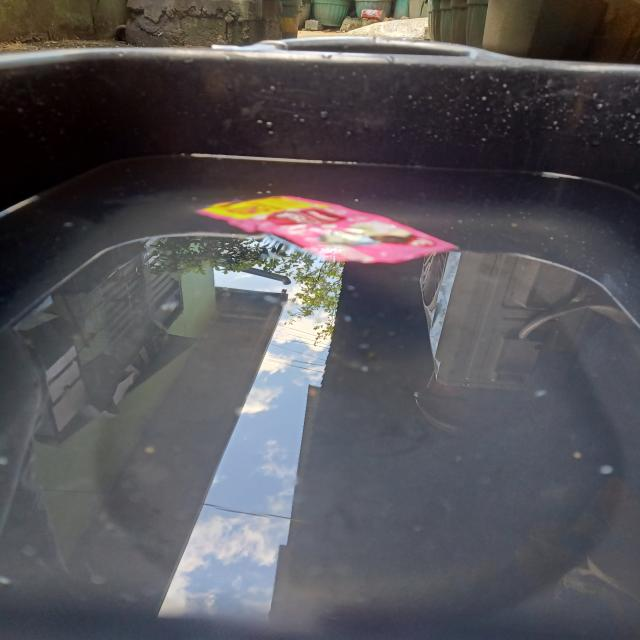Plastic Wrapper: (182, 182, 472, 283)
